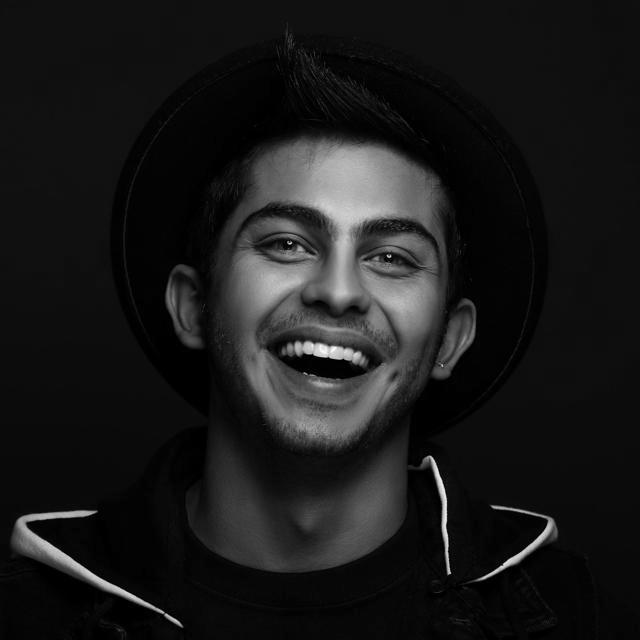Happiness: (203, 149, 450, 467)
